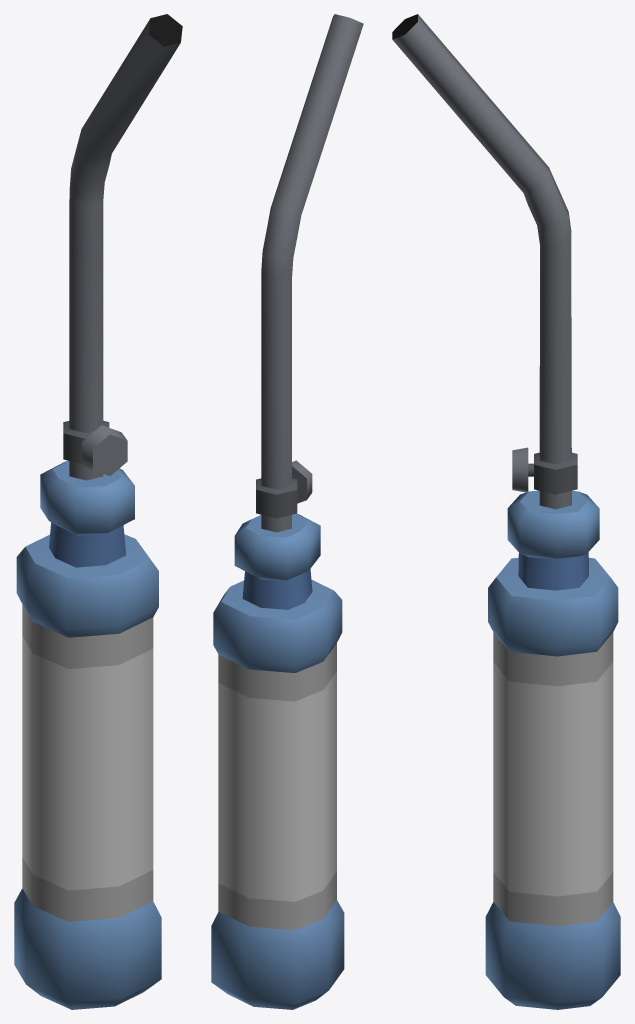
The model's file is welder.glb.
3 views of the same model, side by side, from view 1: azimuth 30°, elevation 25°; view 2: azimuth 150°, elevation 25°; view 3: azimuth 270°, elevation 25° (orthographic). The views are drawn at different scales.
Parts seen in each view (by area): view 1: PocketWelder; view 2: PocketWelder; view 3: PocketWelder.
Boxes of the visible parts, x1,y1,x2,y2 form: PocketWelder: [14, 14, 182, 1009]; PocketWelder: [211, 14, 363, 1009]; PocketWelder: [392, 14, 620, 1009].
Bounding box in the file's own units: 0.0617 × 0.5094 × 0.1084.
1 material, 1 textured.
